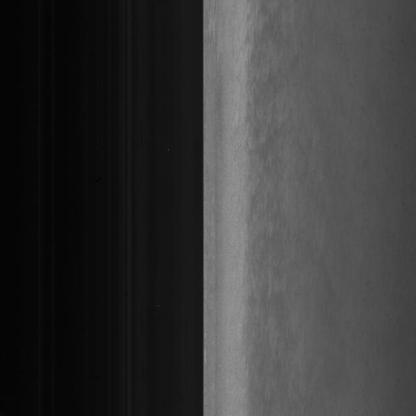silk_spot: (230, 72, 284, 284)
